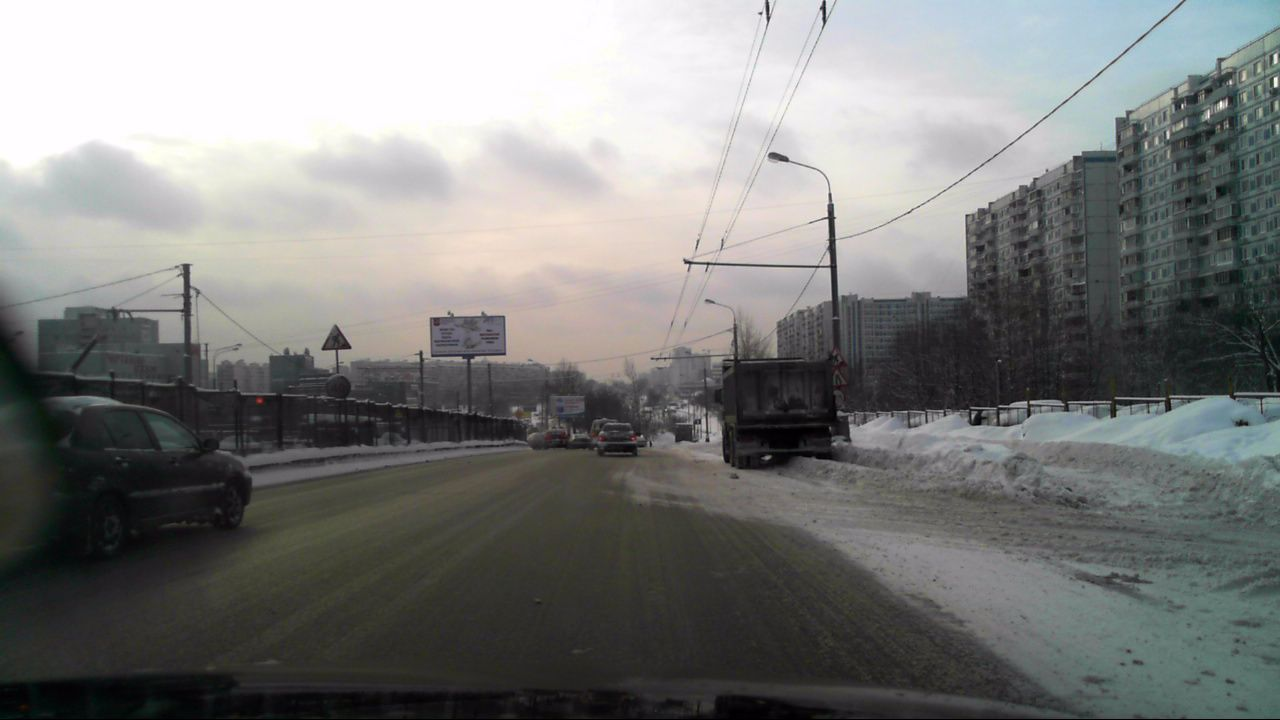speed_warning_40: (323, 374, 350, 401)
